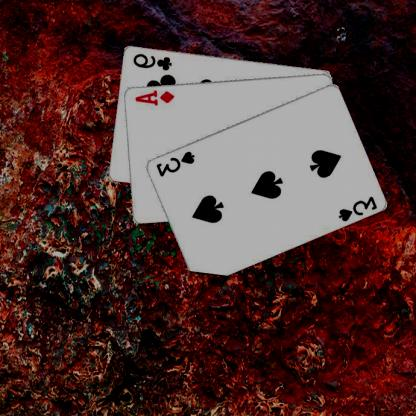3S: (155, 148, 197, 178), (337, 194, 380, 223)
9C: (132, 51, 175, 71)
AD: (134, 88, 176, 106)
